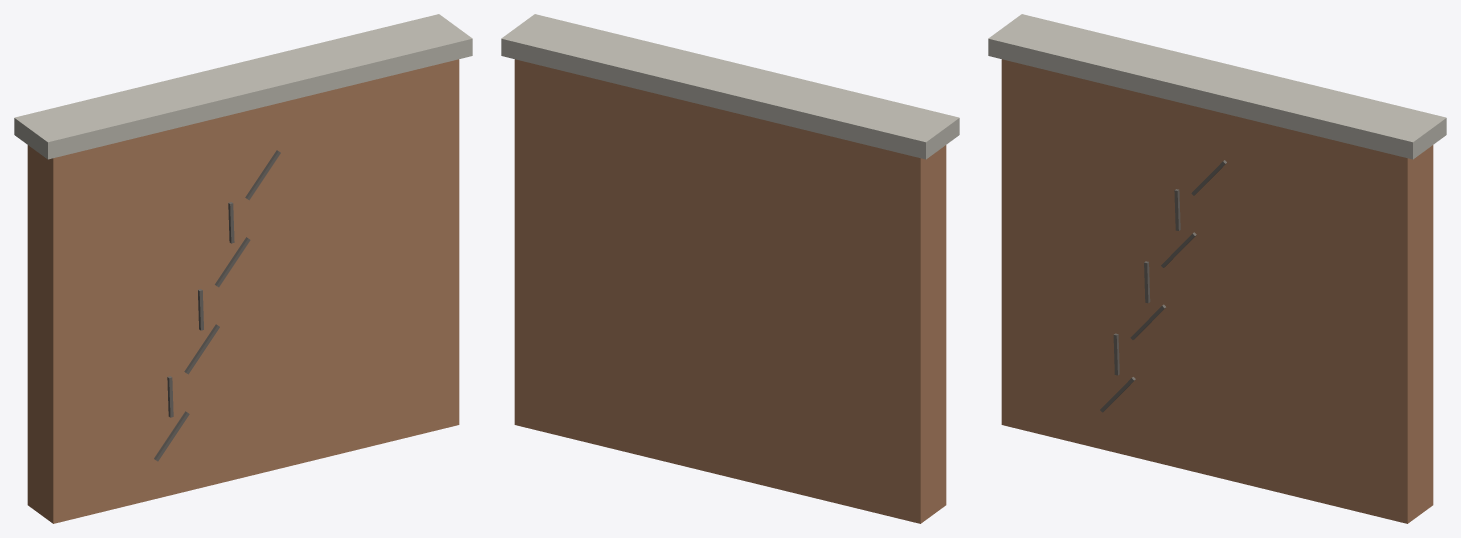
The picture shows the model from 3 angles, left to right: view 1: azimuth 30°, elevation 25°; view 2: azimuth 150°, elevation 25°; view 3: azimuth 330°, elevation 25°; orthographic projection.
Parts seen in each view (by area): view 1: QH-A0110_V02_geometry; view 2: QH-A0110_V02_geometry; view 3: QH-A0110_V02_geometry.
Boxes of the visible parts, <box> form: QH-A0110_V02_geometry: <box>14,14,472,523</box>; QH-A0110_V02_geometry: <box>501,14,959,523</box>; QH-A0110_V02_geometry: <box>988,14,1446,523</box>.
Bounding box in the file's own units: 3.35 × 2.91 × 0.46.
